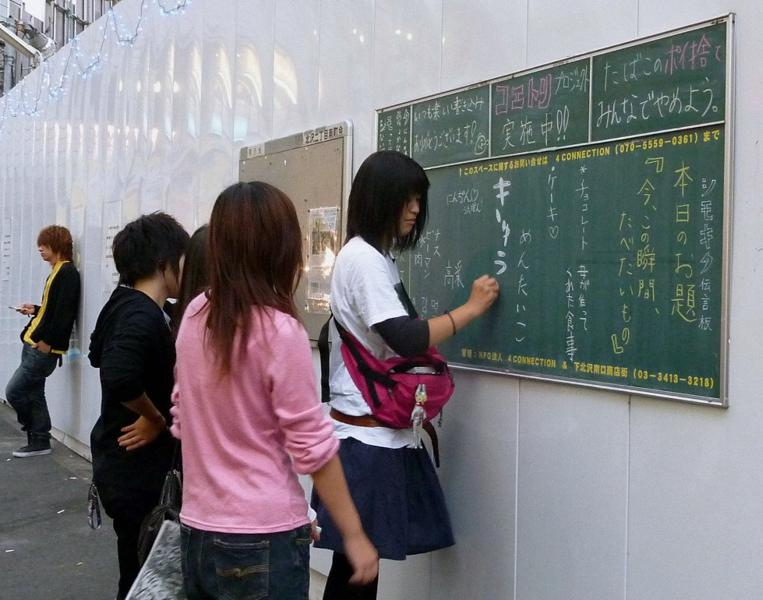person: (314, 150, 502, 600)
